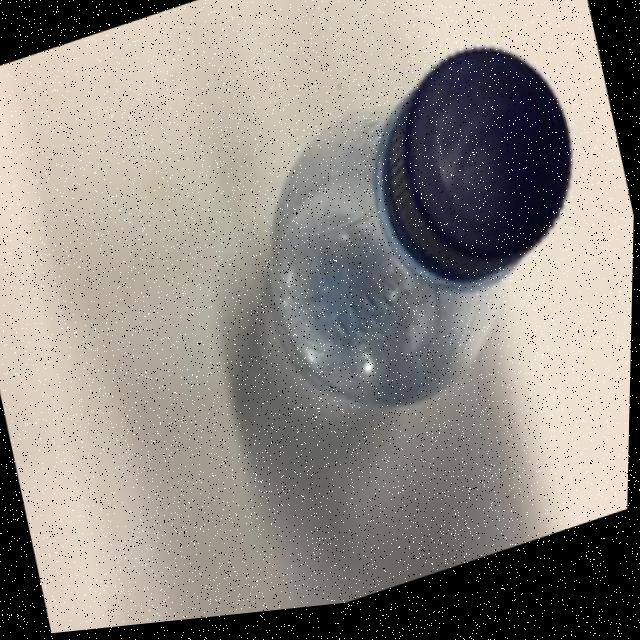plastic: (213, 15, 627, 476)
